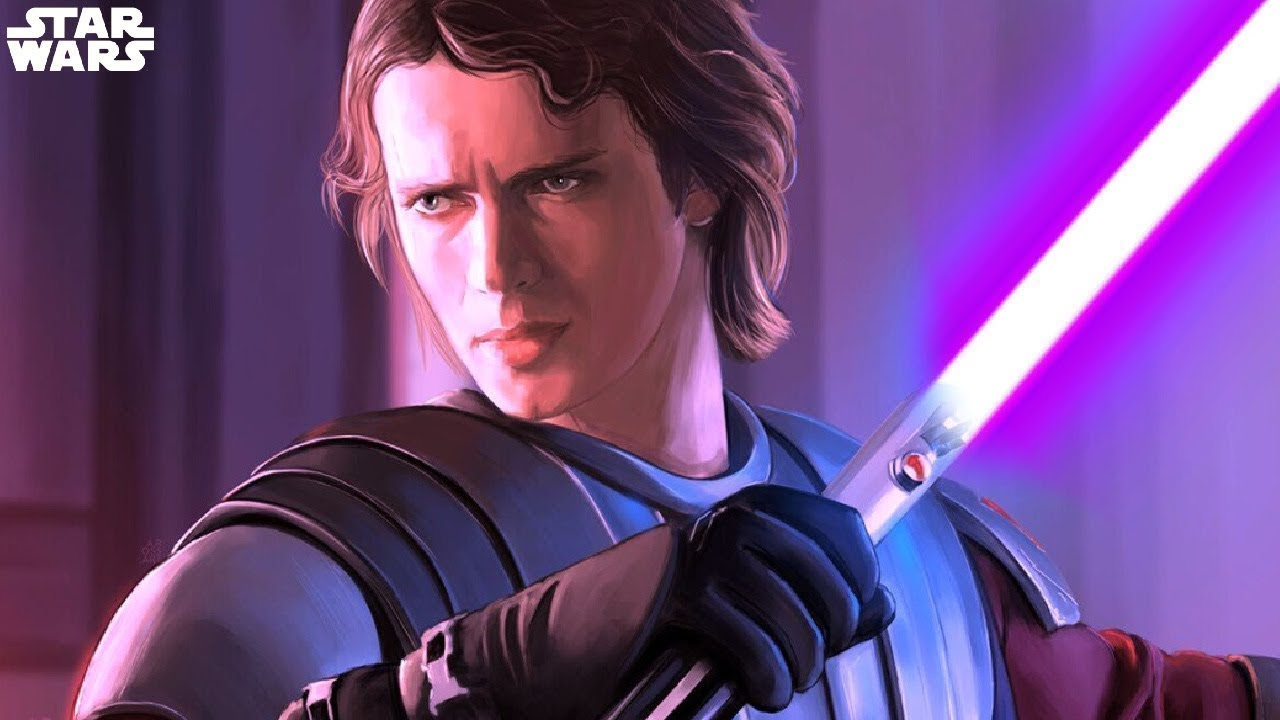lightsaber: (707, 19, 1280, 702)
